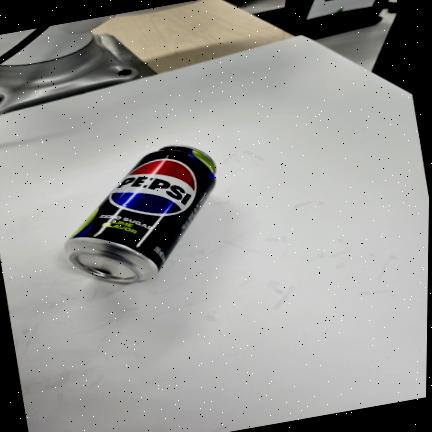can_pepsi_zero: (65, 145, 216, 283)
